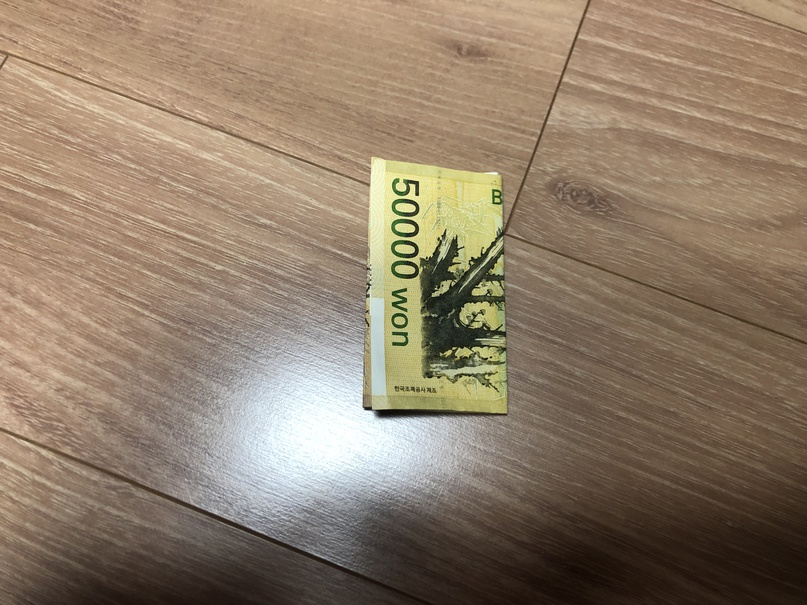50000won: (361, 156, 509, 415)
